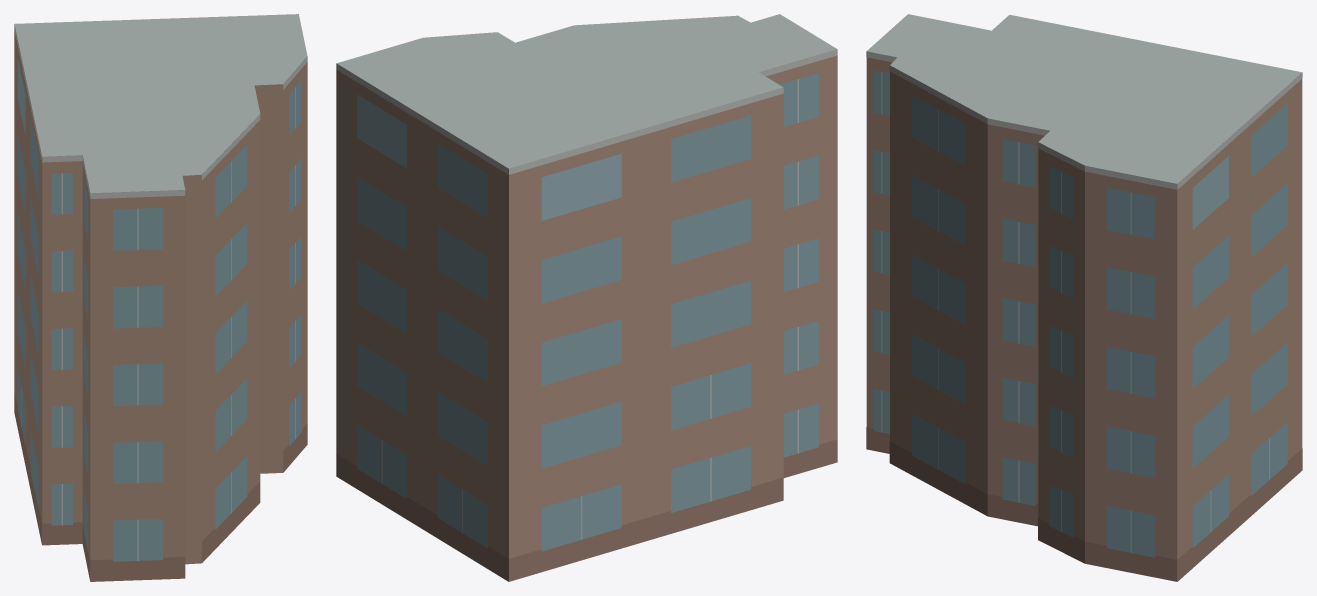
Rendered from survey-upis-32907130.glb.
The picture shows the model from 3 angles, left to right: view 1: azimuth 30°, elevation 25°; view 2: azimuth 150°, elevation 25°; view 3: azimuth 270°, elevation 25°; orthographic projection. The views are drawn at different scales.
Parts seen in each view (by area): view 1: survey-upis-32907130.tmp; view 2: survey-upis-32907130.tmp; view 3: survey-upis-32907130.tmp.
Boxes of the visible parts, x1,y1,x2,y2 form: survey-upis-32907130.tmp: [14, 14, 307, 581]; survey-upis-32907130.tmp: [336, 14, 837, 581]; survey-upis-32907130.tmp: [866, 14, 1302, 581].
Bounding box in the file's own units: 14.84 × 16.2 × 16.09.
